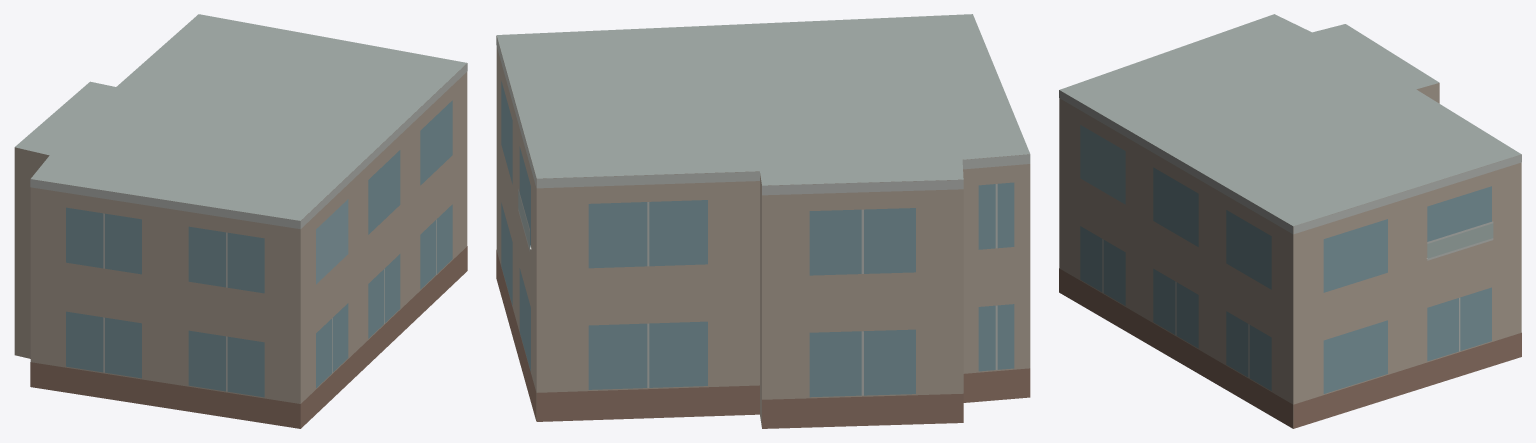
File: survey-upis-32835890.glb
3 renders of one model, left to right at view 1: azimuth 30°, elevation 25°; view 2: azimuth 150°, elevation 25°; view 3: azimuth 270°, elevation 25°, orthographic. The views are drawn at different scales.
Visible parts, largest first — view 1: survey-upis-32835890.tmp; view 2: survey-upis-32835890.tmp; view 3: survey-upis-32835890.tmp.
Boxes of the visible parts, bbox=[...] form: survey-upis-32835890.tmp: bbox=[14, 14, 467, 428]; survey-upis-32835890.tmp: bbox=[496, 14, 1030, 428]; survey-upis-32835890.tmp: bbox=[1059, 14, 1521, 428].
Bounding box in the file's own units: 13.72 × 6.1 × 12.63.
